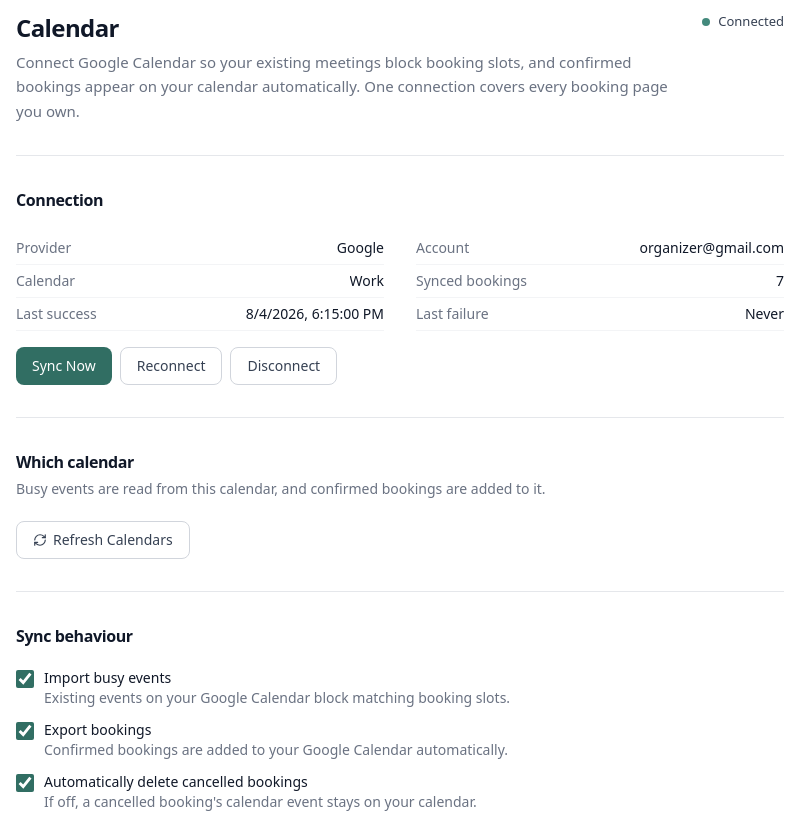
it: CalendarIntegrationPage › names the Google Meet consequence before disconnecting, in the page rather than a browser dialog
The width and height of the screenshot is (801, 822).
What coordinates should you click on to do the following:
click the button "Disconnect"
I would click on:
 (284, 366)
Its box is [230,347,337,385].
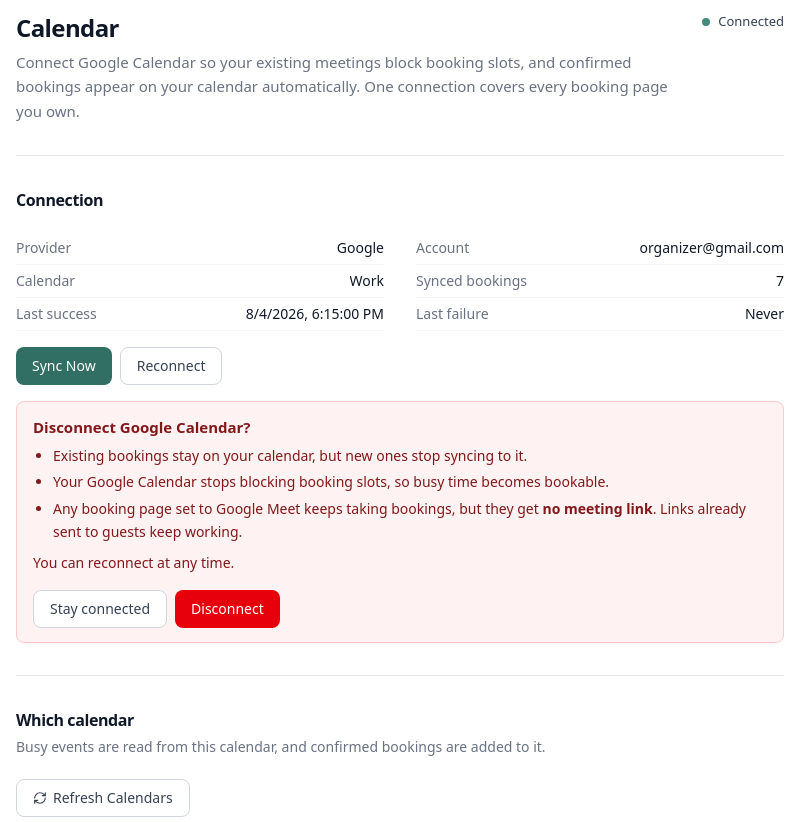
expect the list item "Google Meet" is shown: met, box [53,499,539,518]
expect the text "no meeting link" is shown: met, box [542,499,653,518]
expect the list item "stops blocking booking slots" is shown: met, box [53,472,609,491]
